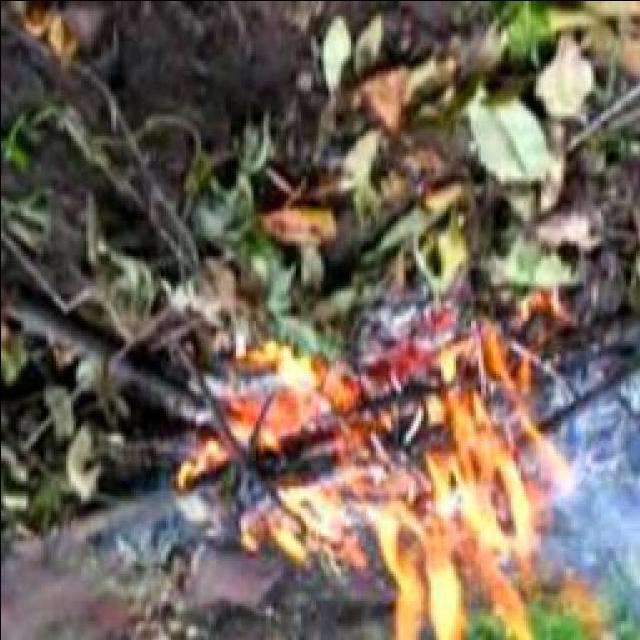Fire: (271, 334, 563, 632)
